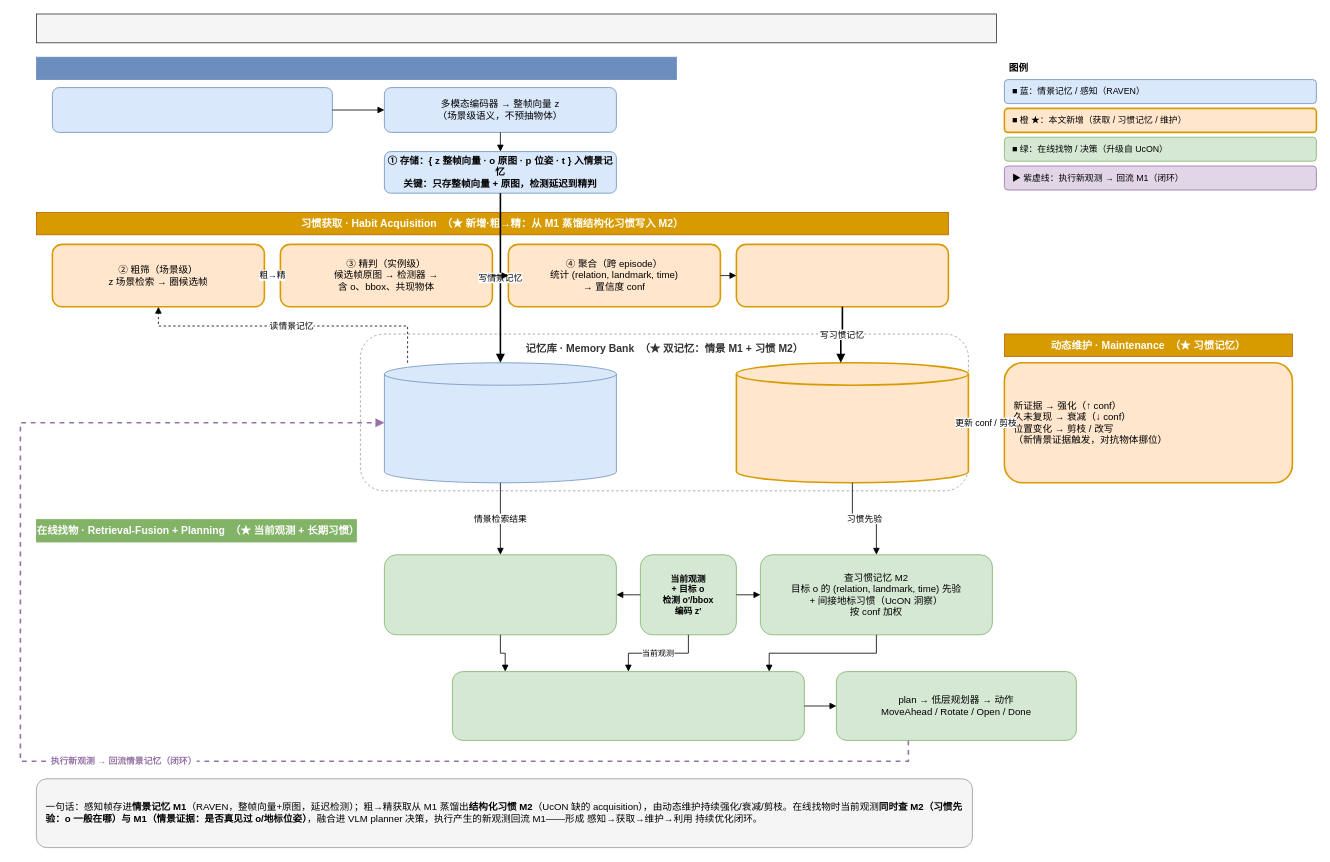
This 1330x862 diagram has some shape labels left out. Here are the shapes that lost their labels. From the top down, the centre of each, then its label:
At (516,28): "RAVEN × UcON · 双记忆家居导航系统（方案一） 感知情景记忆 M1 + 结构化习惯记忆 M2 · 写入构建 ↓ / 在线找物 ↑ 闭环 v0.3".
At (356,68): "感知前端 · Perception （探索 + 执行中持续采集 egocentric RGB，不做检测）".
At (192,109): "采集 egocentric RGB 帧 （探索 / 日常服务持续流）".
At (842,275): "⑤ 归纳 代表帧 → VLM → 结构化习惯元组".
At (500,422): "情景记忆 M1 · Episodic（RAVEN） { z · o原图 · p · t } 向量库 FAISS/Milvus · 语义/空间/时间检索".
At (852,422): "习惯记忆 M2 · Habit（★结构化） 元组 (object, relation, landmark, time, conf) 可解释 · 可维护".
At (500,594): "查情景记忆 M1（agentic 迭代） 见过 o？地标在哪个位姿？ text / time / position / image 检索 （RAVEN 的角色）".
At (628,705): "融合：当前观测 + 习惯先验 + 情景证据 → prompt → VLM planner （证据不足则迭代检索）".
